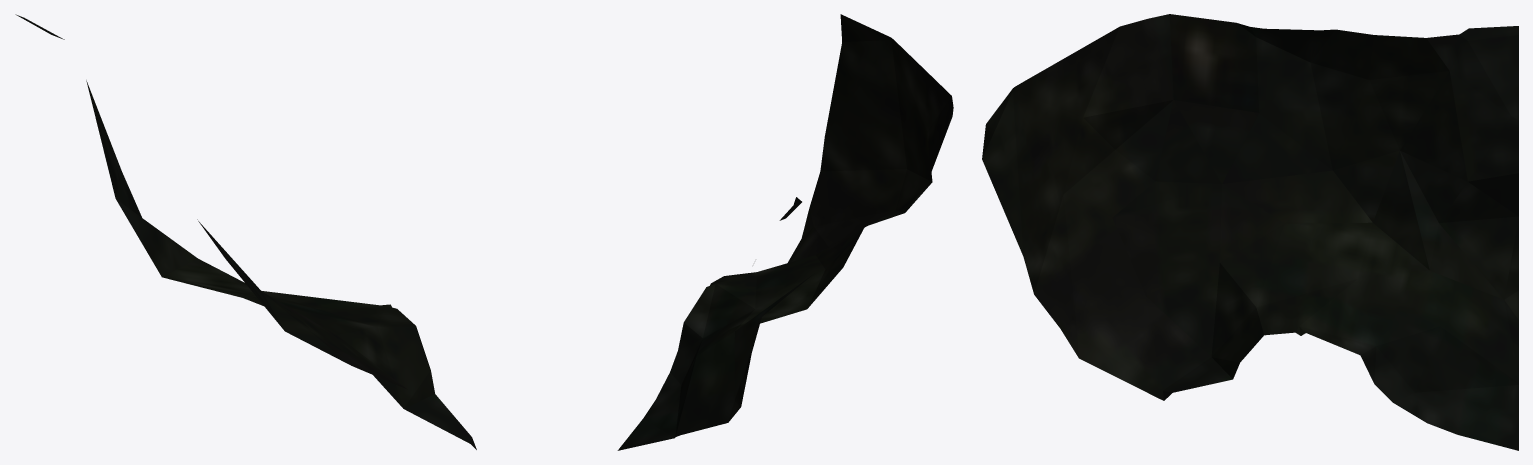
The picture shows the model from 3 angles, left to right: view 1: azimuth 30°, elevation 25°; view 2: azimuth 150°, elevation 25°; view 3: azimuth 270°, elevation 25°; orthographic projection. The views are drawn at different scales.
Size of the model in its own units: 0.2653 by 0.367 by 0.5464.
1 material, 1 textured.
